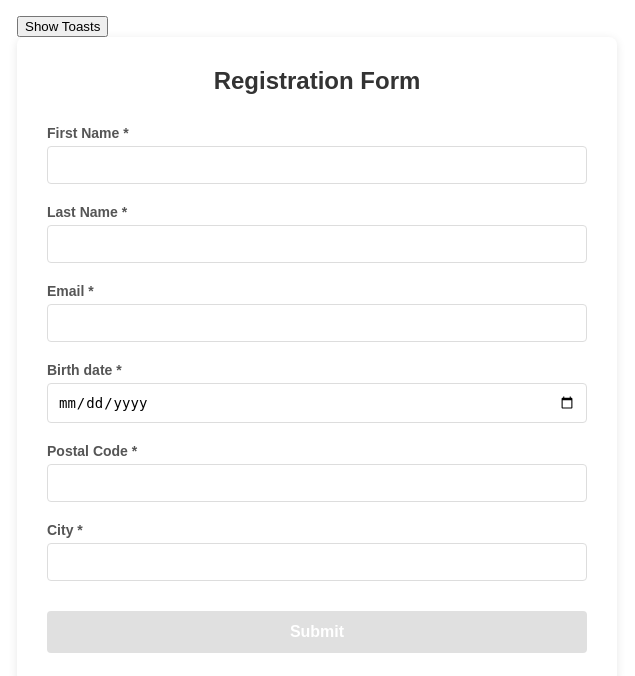
RegistrationForm - Integration Tests › should show error message when postal code is invalid
Type "123" into the field labelled "Postal Code *" at (317, 483), box [47,464,587,502]
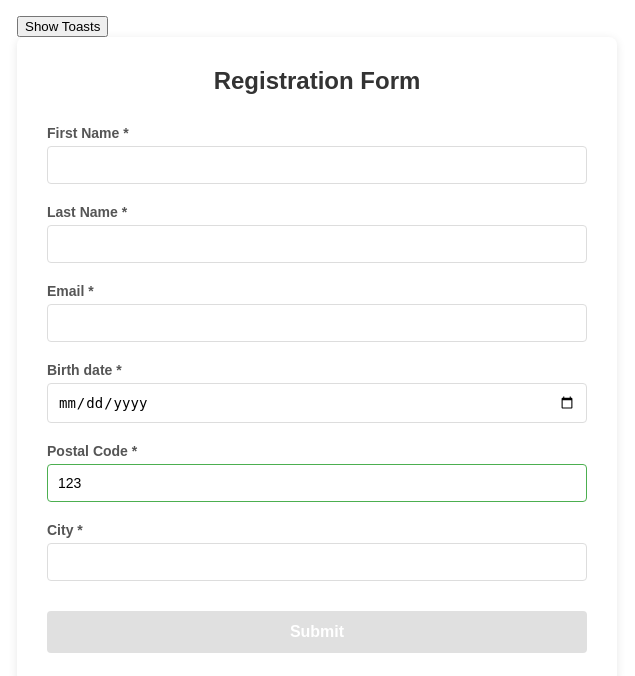
Press Tab
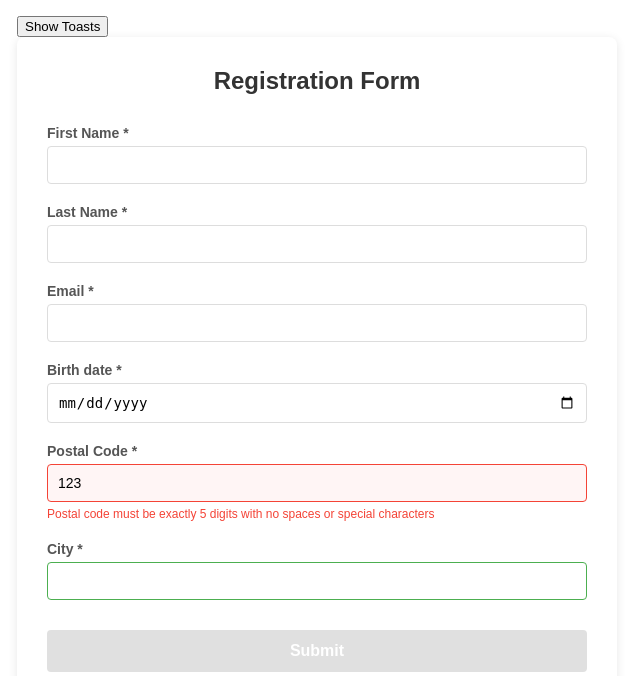
expect the text "Postal code must be exactly 5 digits with no spaces or special characters" is shown: met, box [47,507,434,521]
